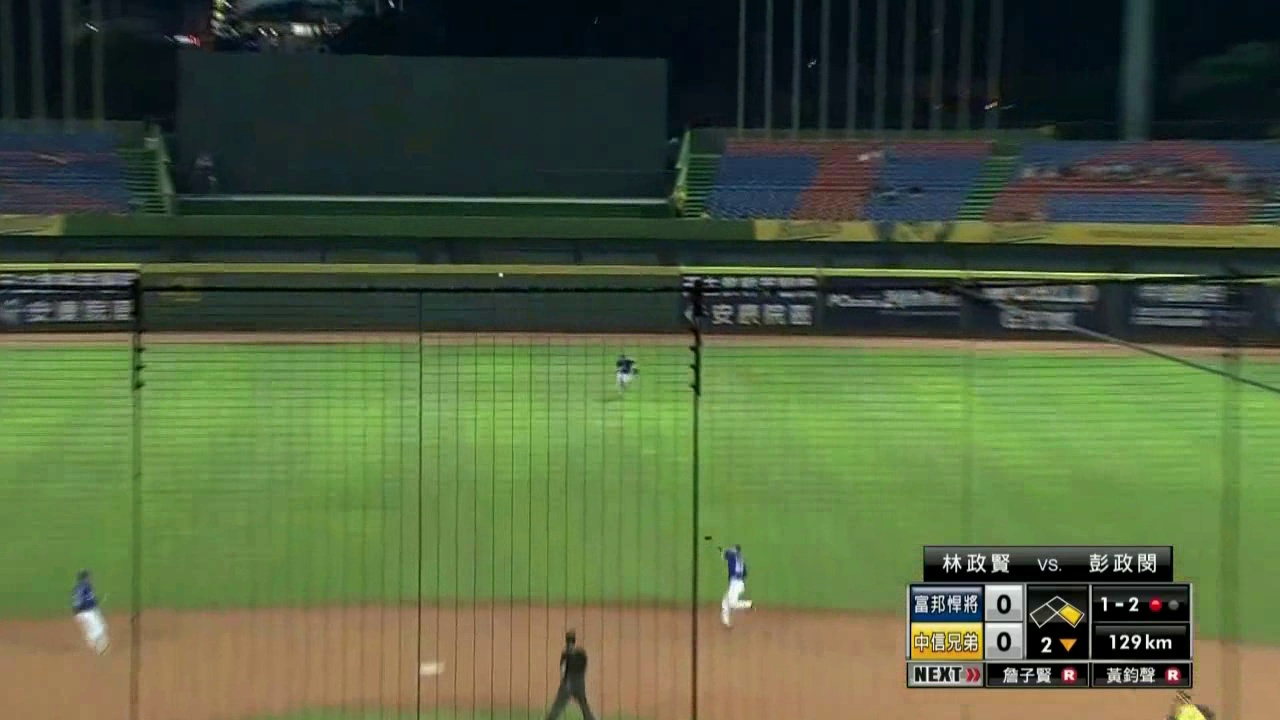ball: (496, 270, 507, 281)
base: (1028, 590, 1086, 628)
out: (1146, 589, 1184, 619)
score1: (988, 586, 1020, 619)
score2: (987, 625, 1021, 657)
session: (1031, 632, 1085, 659)
speed: (1093, 628, 1184, 658)
strikeball: (1094, 591, 1144, 622)
